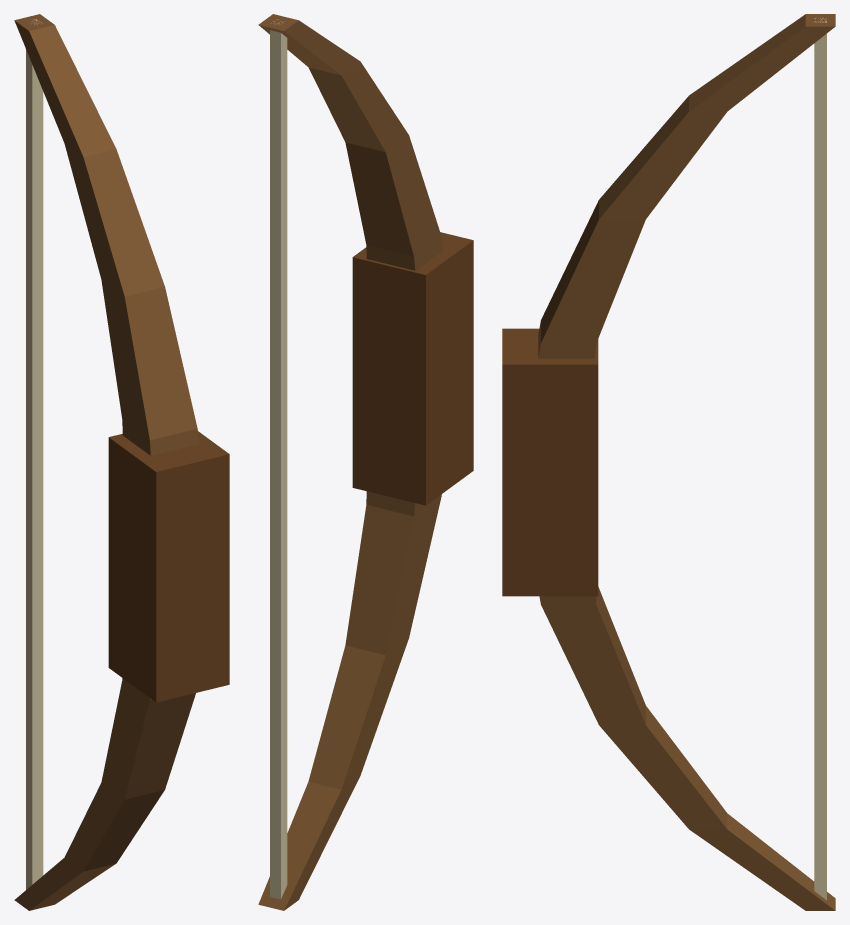
The model's file is ShortBow.obj.
3 views of the same model, side by side, from view 1: azimuth 30°, elevation 25°; view 2: azimuth 150°, elevation 25°; view 3: azimuth 270°, elevation 25° (orthographic).
Visible parts, largest first — view 1: Limbs, String; view 2: Limbs, String; view 3: Limbs, String.
Part boxes in pixels (x1,y1,x2,y2): Limbs: (14,14,229,910); String: (26,19,43,889); Limbs: (258,14,473,910); String: (270,19,287,899); Limbs: (502,14,835,910); String: (814,17,826,900).
Size of the model in its own units: 0.04 by 0.4579 by 0.1564.
